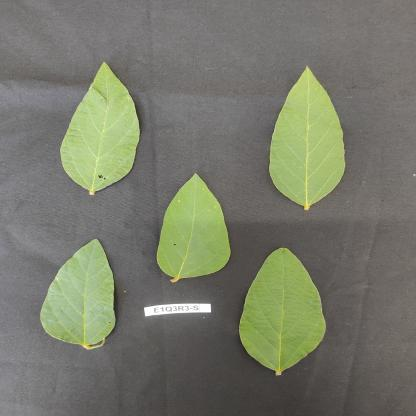label: (142, 304, 212, 321)
leaflets: (44, 47, 144, 193), (268, 60, 354, 215), (242, 242, 327, 378), (30, 231, 126, 351), (154, 169, 237, 284)
